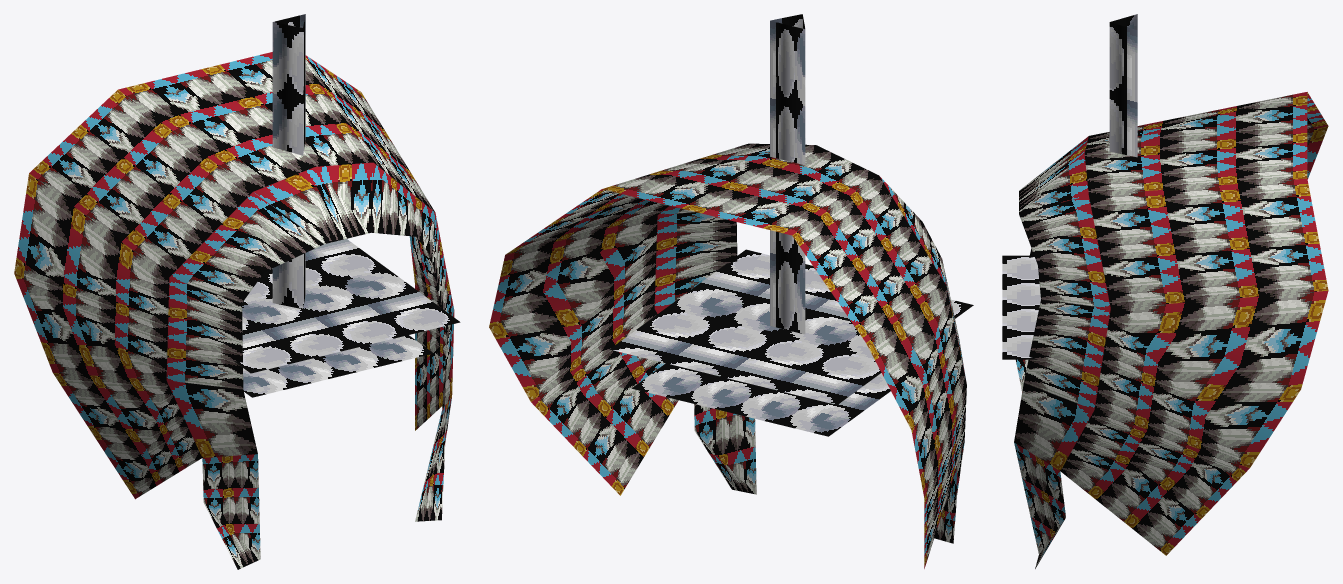
The model's file is 2865head005_c.gltf.
The picture shows the model from 3 angles, left to right: view 1: azimuth 30°, elevation 25°; view 2: azimuth 150°, elevation 25°; view 3: azimuth 270°, elevation 25°; orthographic projection. The views are drawn at different scales.
Parts seen in each view (by area): view 1: 2865head005_c; view 2: 2865head005_c; view 3: 2865head005_c.
Boxes of the visible parts, bbox=[...] form: 2865head005_c: bbox=[14, 14, 460, 569]; 2865head005_c: bbox=[489, 14, 973, 568]; 2865head005_c: bbox=[1002, 14, 1328, 568].
Bounding box in the file's own units: 0.8569 × 1.03 × 0.6128.
Materials: 2 (2 with a texture image).
